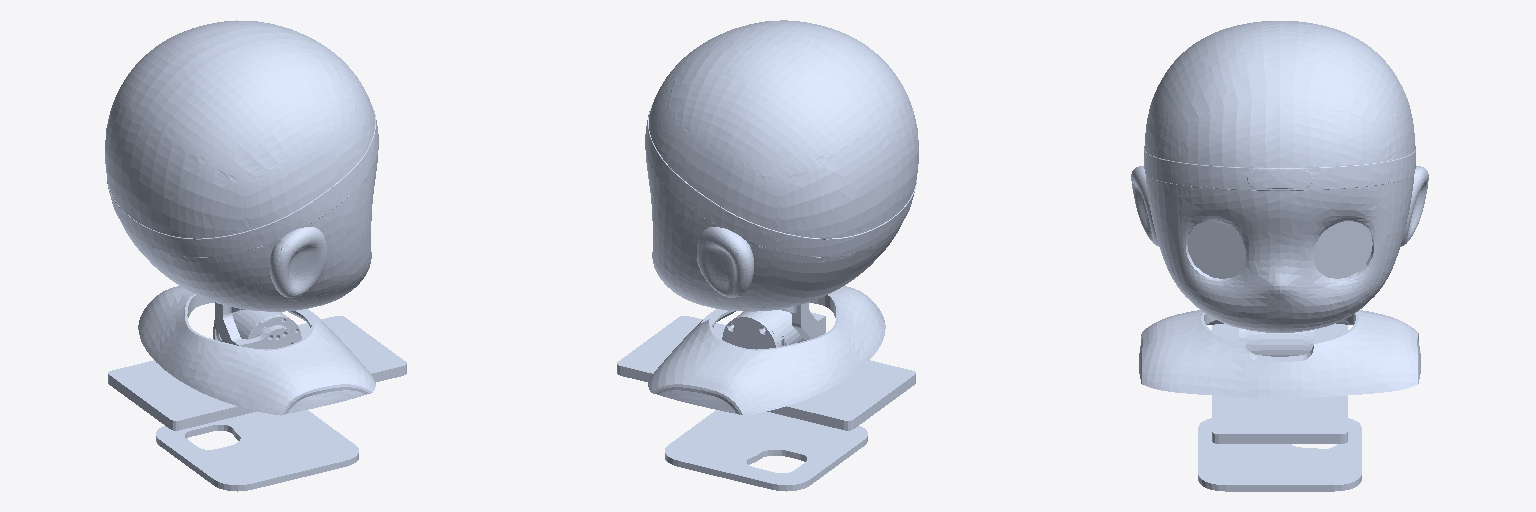
robot.urdf — head:
<?xml version="1.0" encoding="utf-8"?>
<!-- This URDF was automatically created by SolidWorks to URDF Exporter! Originally created by Stephen Brawner (brawner@gmail.com) 
     Commit Version: 1.6.0-4-g7f85cfe  Build Version: 1.6.7995.38578
     For more information, please see http://wiki.ros.org/sw_urdf_exporter -->
<robot
  name="head">
  <link
    name="base_link">
    <inertial>
      <origin
        xyz="0.000423092501776838 -0.000449642388327431 -0.0189263892282658"
        rpy="0 0 0" />
      <mass
        value="0.455861650695922" />
      <inertia
        ixx="0.000587308186169251"
        ixy="-1.06042209471881E-05"
        ixz="1.22813164718298E-06"
        iyy="0.000852038090042886"
        iyz="-4.88441344182294E-06"
        izz="0.0014024470594033" />
    </inertial>
    <visual>
      <origin
        xyz="0 0 0"
        rpy="0 0 0" />
      <geometry>
        <mesh
          filename="package://head/meshes/base_link.STL" />
      </geometry>
      <material
        name="">
        <color
          rgba="0.866666666666667 0.909803921568627 1 1" />
      </material>
    </visual>
    <collision>
      <origin
        xyz="0 0 0"
        rpy="0 0 0" />
      <geometry>
        <mesh
          filename="package://head/meshes/base_link.STL" />
      </geometry>
    </collision>
  </link>
  <link
    name="pitch_Link">
    <inertial>
      <origin
        xyz="-0.0112341117459365 -0.00694752862537319 0.0321857851897055"
        rpy="0 0 0" />
      <mass
        value="0.0930350143835444" />
      <inertia
        ixx="5.8840535188368E-05"
        ixy="6.01702233348234E-06"
        ixz="9.0952965704988E-06"
        iyy="5.20668760411307E-05"
        iyz="-1.53404797297349E-05"
        izz="2.74431475292274E-05" />
    </inertial>
    <visual>
      <origin
        xyz="0 0 0"
        rpy="0 0 0" />
      <geometry>
        <mesh
          filename="package://head/meshes/pitch_Link.STL" />
      </geometry>
      <material
        name="">
        <color
          rgba="0.866666666666667 0.909803921568627 1 1" />
      </material>
    </visual>
    <collision>
      <origin
        xyz="0 0 0"
        rpy="0 0 0" />
      <geometry>
        <mesh
          filename="package://head/meshes/pitch_Link.STL" />
      </geometry>
    </collision>
  </link>
  <joint
    name="axis1"
    type="revolute">
    <origin
      xyz="0 0 0.028"
      rpy="0 0 0" />
    <parent
      link="base_link" />
    <child
      link="pitch_Link" />
    <axis
      xyz="0 -1 0" />
    <limit
      lower="-0.61"
      upper="0.61"
      effort="0"
      velocity="0" />
  </joint>
  <link
    name="roll_Link">
    <inertial>
      <origin
        xyz="0.0111167052128765 4.83290823022192E-05 0.0322586283549145"
        rpy="0 0 0" />
      <mass
        value="0.0844994308339552" />
      <inertia
        ixx="2.2139787436951E-05"
        ixy="-5.38173376263137E-09"
        ixz="5.47545045413997E-06"
        iyy="2.8013564394473E-05"
        iyz="-4.91926274411279E-08"
        izz="2.65043891155872E-05" />
    </inertial>
    <visual>
      <origin
        xyz="0 0 0"
        rpy="0 0 0" />
      <geometry>
        <mesh
          filename="package://head/meshes/roll_Link.STL" />
      </geometry>
      <material
        name="">
        <color
          rgba="0.866666666666667 0.909803921568627 1 1" />
      </material>
    </visual>
    <collision>
      <origin
        xyz="0 0 0"
        rpy="0 0 0" />
      <geometry>
        <mesh
          filename="package://head/meshes/roll_Link.STL" />
      </geometry>
    </collision>
  </link>
  <joint
    name="axis2"
    type="revolute">
    <origin
      xyz="0 0 0.048"
      rpy="0 0 0" />
    <parent
      link="pitch_Link" />
    <child
      link="roll_Link" />
    <axis
      xyz="1 0 0" />
    <limit
      lower="-0.52"
      upper="0.52"
      effort="0"
      velocity="0" />
  </joint>
  <link
    name="yaw_Link">
    <inertial>
      <origin
        xyz="0.00103214967479447 5.14693341075658E-05 0.0132585704276815"
        rpy="0 0 0" />
      <mass
        value="0.69749510951816" />
      <inertia
        ixx="0.00412290319487172"
        ixy="-4.4721906231322E-06"
        ixz="0.000179402901402881"
        iyy="0.0040165965070686"
        iyz="-5.36143216982649E-06"
        izz="0.00395045055237545" />
    </inertial>
    <visual>
      <origin
        xyz="0 0 0"
        rpy="0 0 0" />
      <geometry>
        <mesh
          filename="package://head/meshes/yaw_Link.STL" />
      </geometry>
      <material
        name="">
        <color
          rgba="0.866666666666667 0.909803921568627 1 1" />
      </material>
    </visual>
    <collision>
      <origin
        xyz="0 0 0"
        rpy="0 0 0" />
      <geometry>
        <mesh
          filename="package://head/meshes/yaw_Link.STL" />
      </geometry>
    </collision>
  </link>
  <joint
    name="axis3"
    type="revolute">
    <origin
      xyz="0 0 0.082"
      rpy="0 0 0" />
    <parent
      link="roll_Link" />
    <child
      link="yaw_Link" />
    <axis
      xyz="0 0 1" />
    <limit
      lower="-1.65"
      upper="1.65"
      effort="0"
      velocity="0" />
  </joint>
</robot>

--- What the picture shows (computed from the rendered views, not written in the file) ---
The picture shows the robot from 3 angles, left to right: view 1: azimuth 30°, elevation 25°; view 2: azimuth 150°, elevation 25°; view 3: azimuth 270°, elevation 25°; orthographic projection.
Robot: head — 4 links, 3 joints (3 revolute); root link base_link; default pose: every joint at zero.
Visible links, largest first — view 1: yaw_Link, base_link, pitch_Link; view 2: yaw_Link, base_link, pitch_Link; view 3: yaw_Link, base_link.
Boxes of the visible links, x1,y1,x2,y2 form: yaw_Link: [105, 20, 378, 311]; base_link: [108, 286, 406, 491]; pitch_Link: [215, 302, 296, 349]; yaw_Link: [645, 20, 918, 311]; base_link: [617, 286, 915, 491]; pitch_Link: [779, 302, 825, 340]; yaw_Link: [1131, 21, 1428, 332]; base_link: [1139, 310, 1420, 491].
Bounding box of the posed robot: 0.2088 × 0.2184 × 0.3366 m (x, y, z).
4 mesh visuals loaded from 4 distinct referenced files (4 binary STL).
